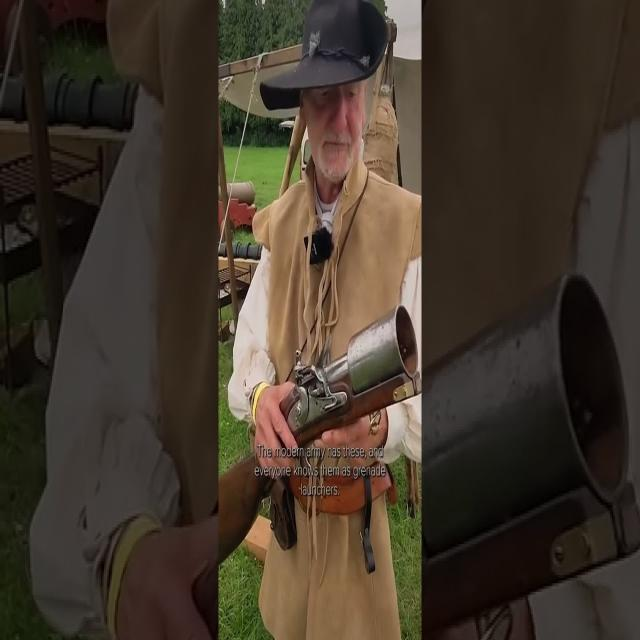rocket launcher: (216, 311, 420, 536)
